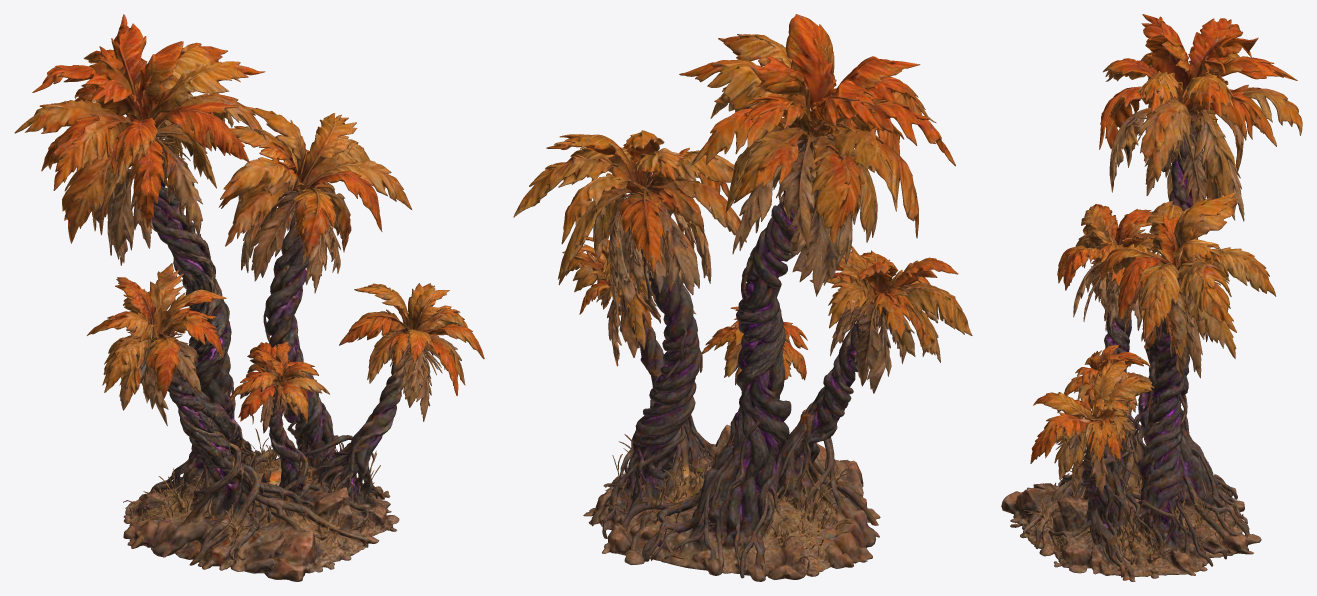
File: desert-palm-cluster.glb
The picture shows the model from 3 angles, left to right: view 1: azimuth 30°, elevation 25°; view 2: azimuth 150°, elevation 25°; view 3: azimuth 270°, elevation 25°; orthographic projection. The views are drawn at different scales.
Bounding box in the file's own units: 1.59 × 1.91 × 1.13.
1 material, 1 textured.
